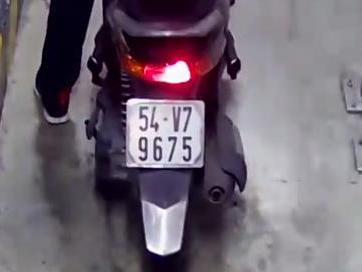num_plate: (126, 98, 206, 166)
